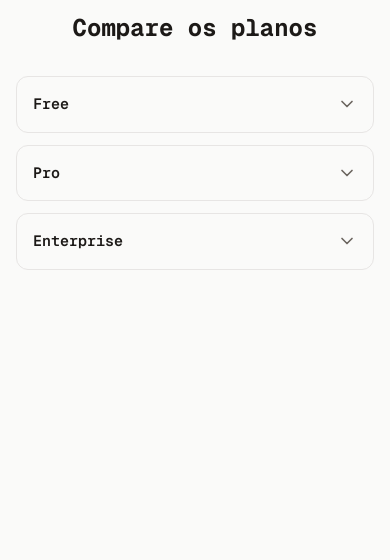
Test: ComparisonTable › mobile accordion › clicking the same button twice collapses it (toggle)
Click the button "Free" at x=51, y=104, box x1=17 y1=77 x2=373 y2=132
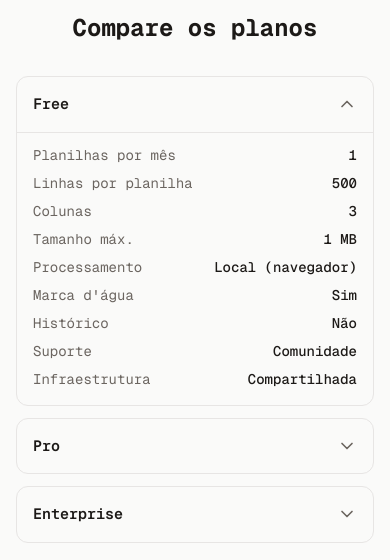
Now the button "Free" is expanded
Click the button "Free" at x=51, y=104, box x1=17 y1=77 x2=373 y2=132
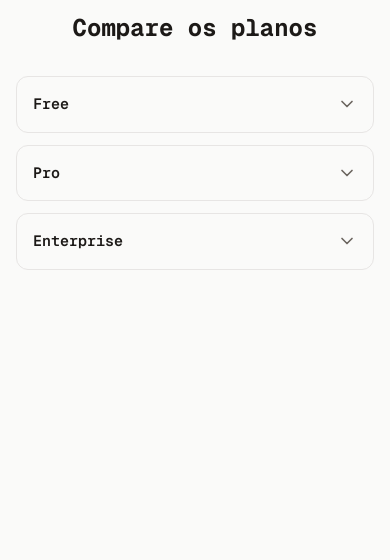
Now the button "Free" is collapsed, box x1=17 y1=77 x2=373 y2=132
